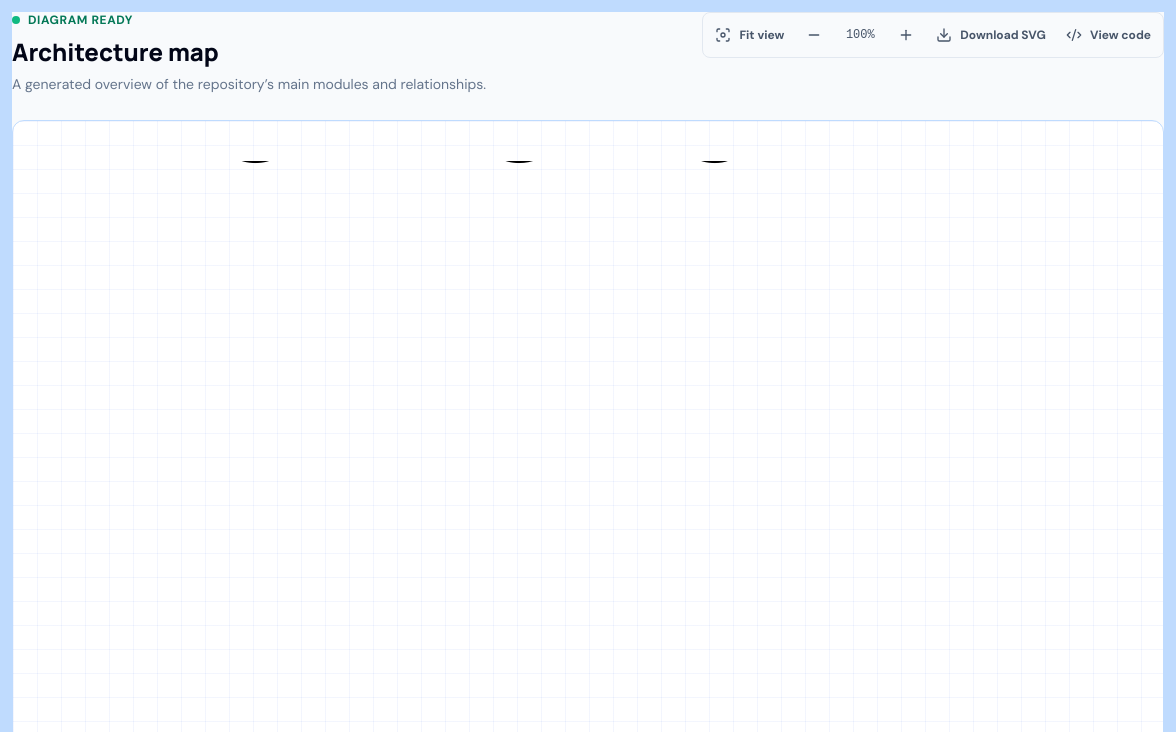
Test case: ArchDiagram › renders valid flowcharts and exposes view controls
Click the button "View code". click: coordinates (1108, 35)
box: x1=1058 y1=17 x2=1159 y2=53
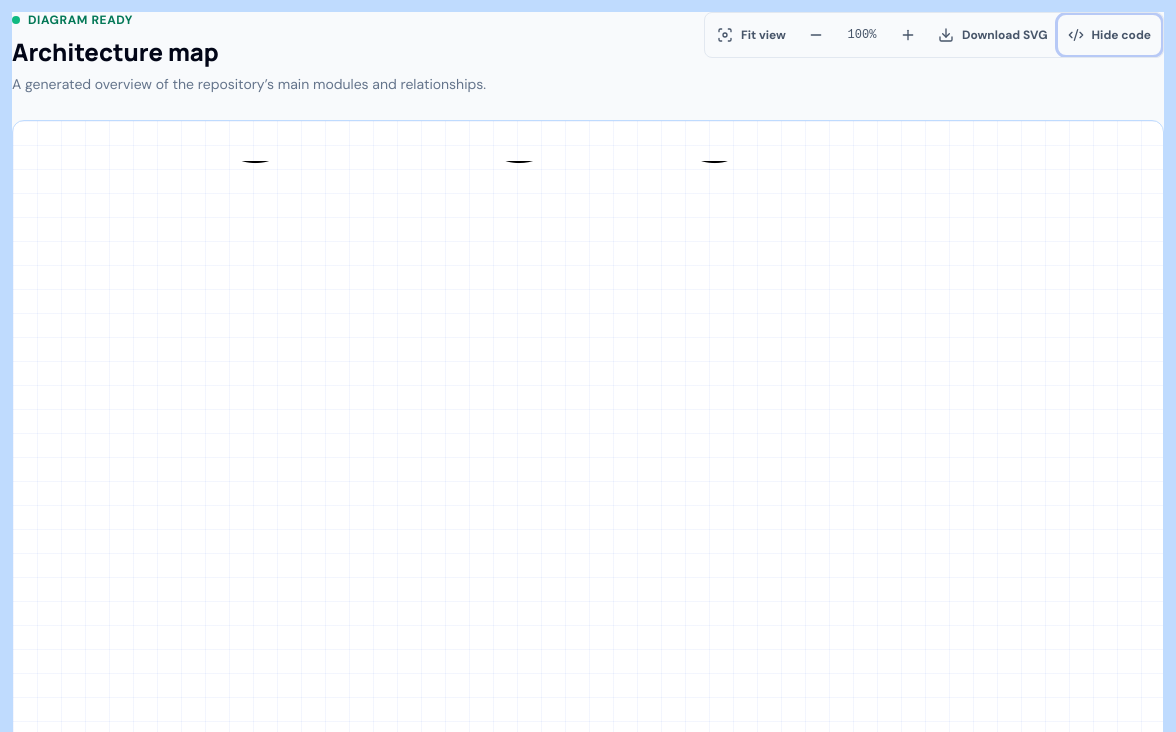
Click the button named "zoom in". click: coordinates (908, 35)
box: x1=890 y1=17 x2=926 y2=53
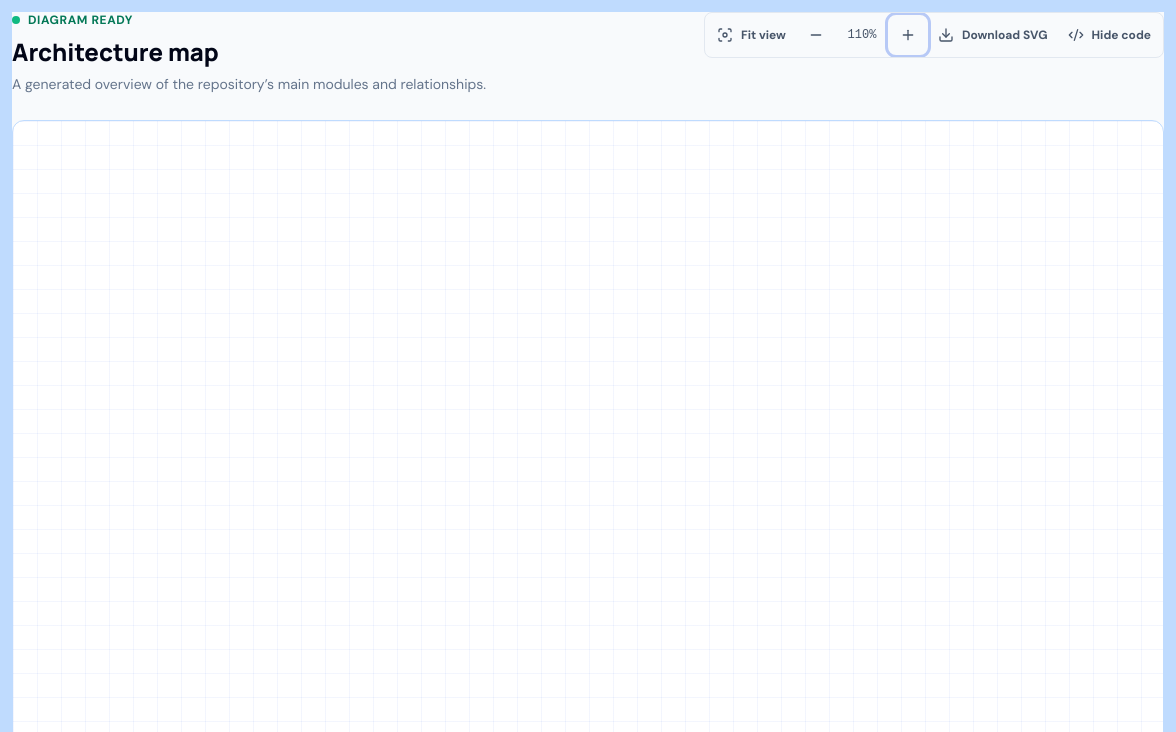
Now the text "110%" is shown, box x1=848 y1=28 x2=876 y2=42
